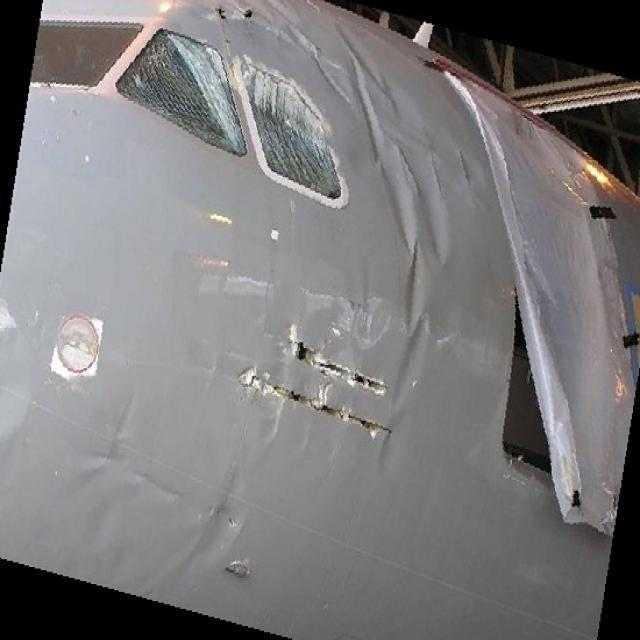crack: (238, 320, 394, 438)
